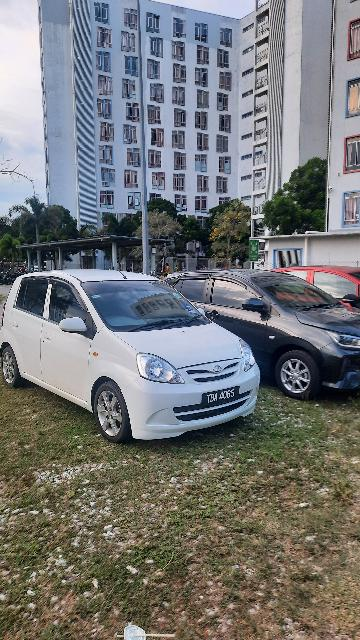License_Plate: (199, 386, 247, 406)
car: (1, 267, 265, 447)
